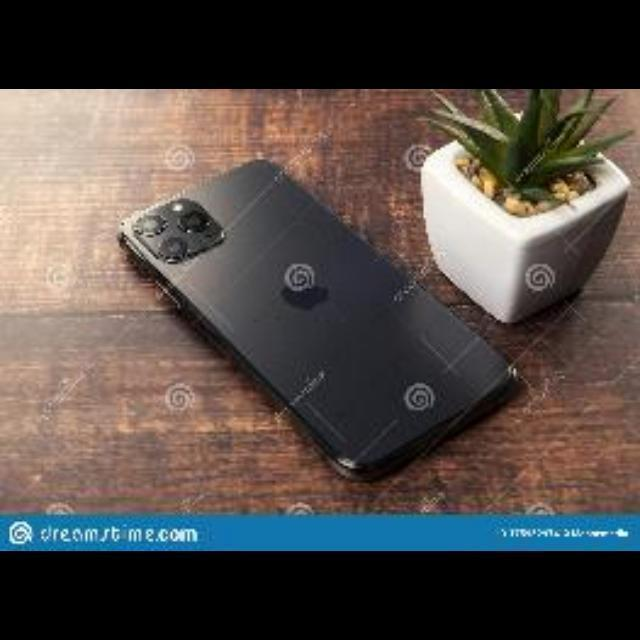phone: (96, 133, 545, 490)
